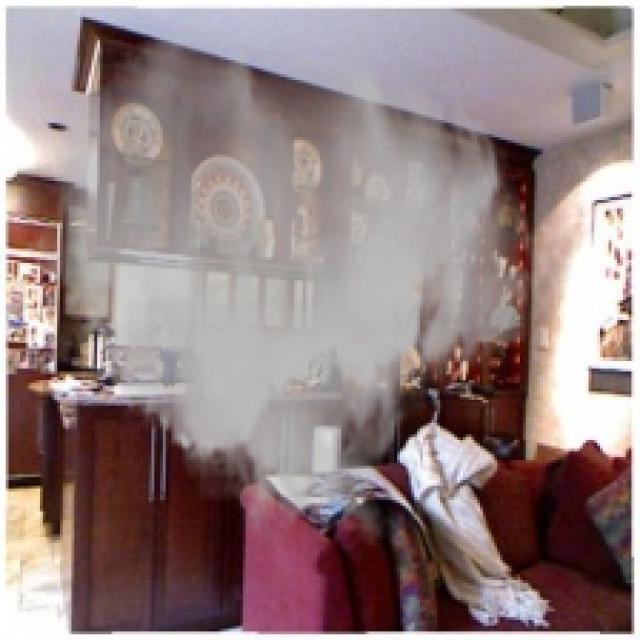Smoke: (22, 20, 538, 549)
